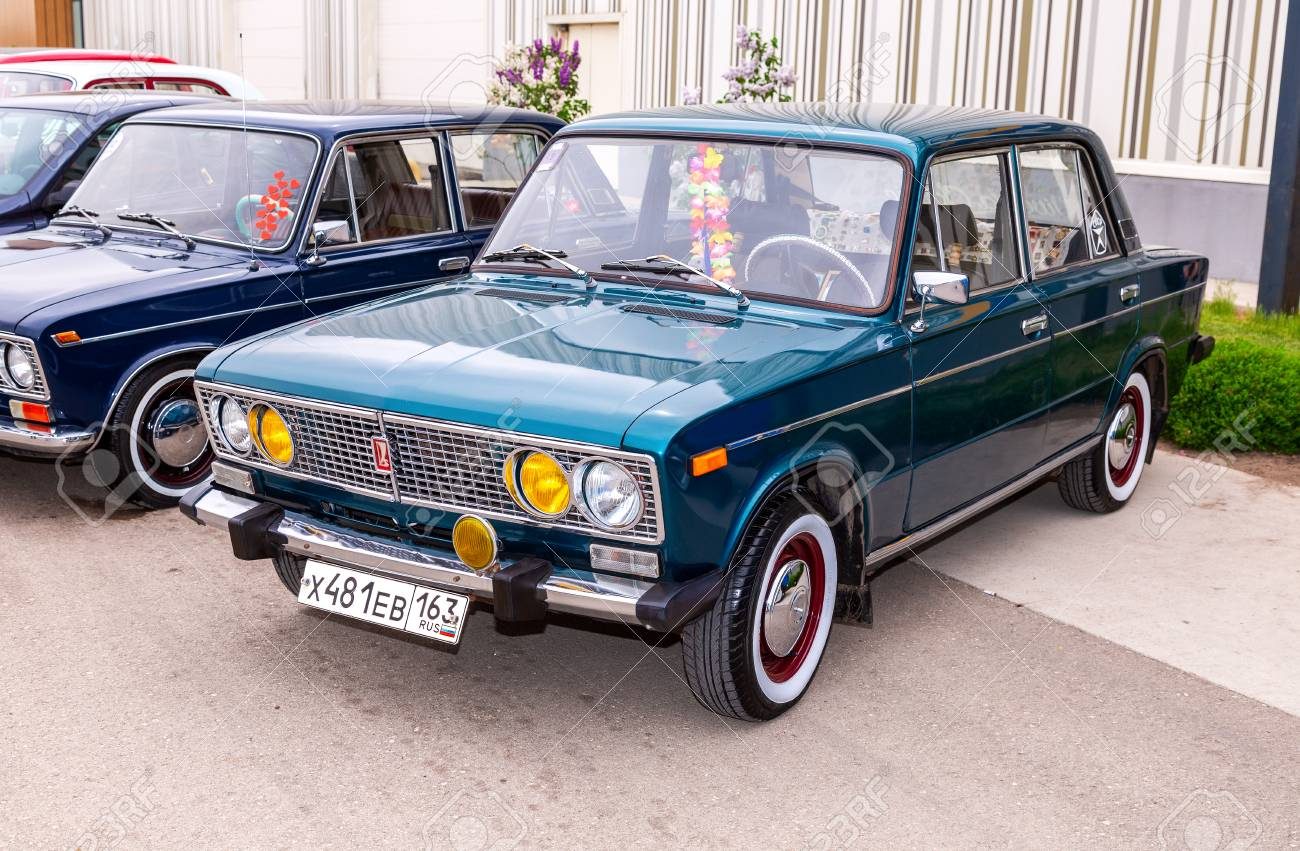car: (192, 371, 666, 657)
plate: (296, 557, 471, 646)
